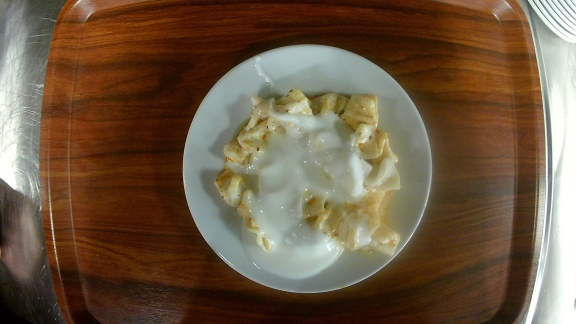manti: (181, 41, 434, 294)
